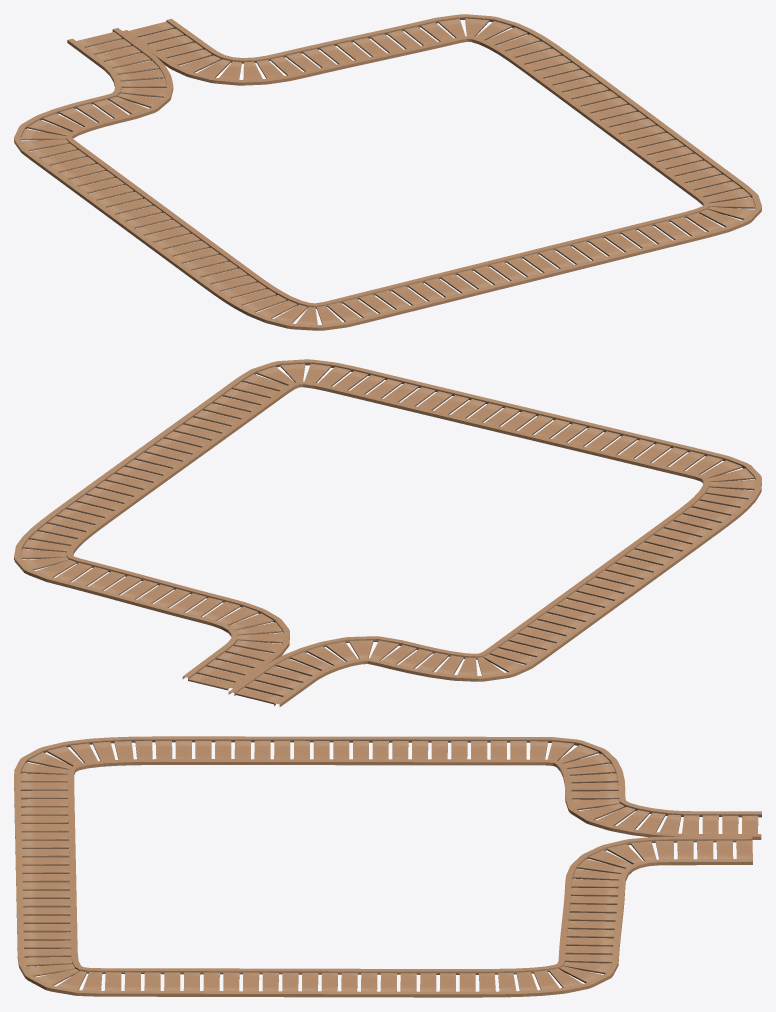
Rendered from floor_decor_4_2.fbx.
3 renders of one model, top to bottom at view 1: azimuth 30°, elevation 25°; view 2: azimuth 150°, elevation 25°; view 3: azimuth 270°, elevation 25°, orthographic. The views are drawn at different scales.
Visible parts, largest first — view 1: Cube.017; view 2: Cube.017; view 3: Cube.017.
Boxes of the visible parts, x1=… form: Cube.017: x1=14, y1=14, x2=761, y2=330; Cube.017: x1=14, y1=359, x2=761, y2=706; Cube.017: x1=14, y1=736, x2=761, y2=997.
Bounding box in the file's own units: 2.7 × 0.0152 × 3.31.
